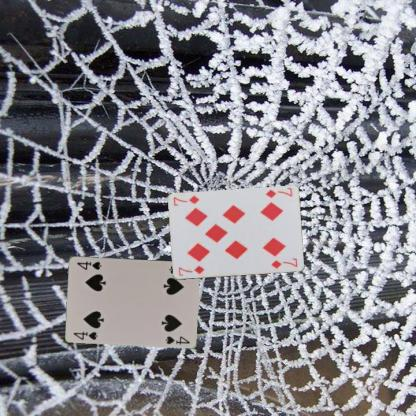4s: (71, 328, 99, 341)
7d: (176, 263, 205, 278), (263, 186, 293, 200)
